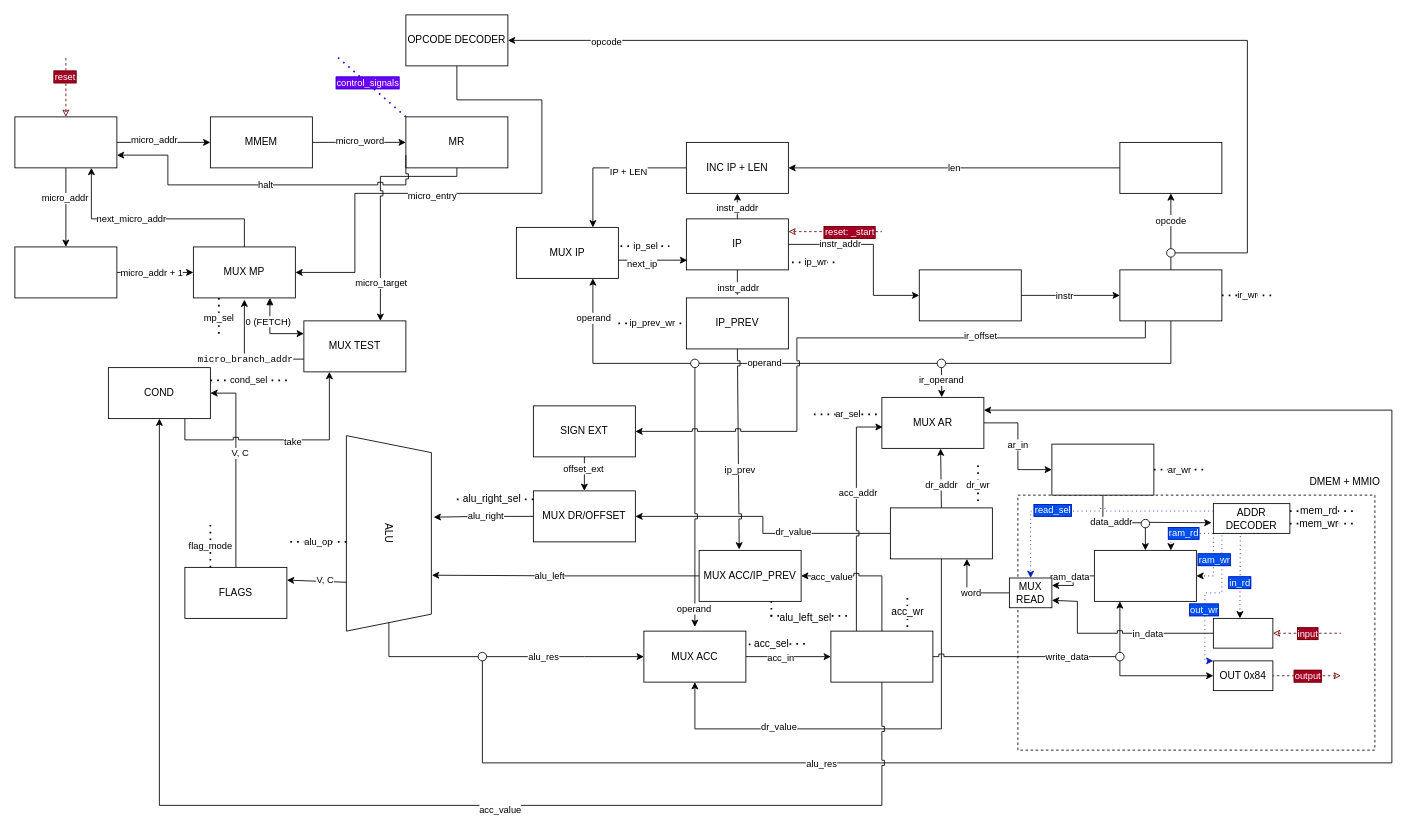
Image size: 1414x830. Some labels were removed from this diagram. The shapes that lost their labels are listed below. From the top down, each one's centre as x and y in pixels, then its label:
the point at 65,142: MP
the point at 1170,167: LEN DECODER
the point at 65,272: INC MP
the point at 969,295: IMEM
the point at 1170,295: IR
the point at 1102,469: AR
the point at 941,533: DR
the point at 1145,575: RAM
the point at 1243,633: IN 0x80
the point at 881,656: ACC
